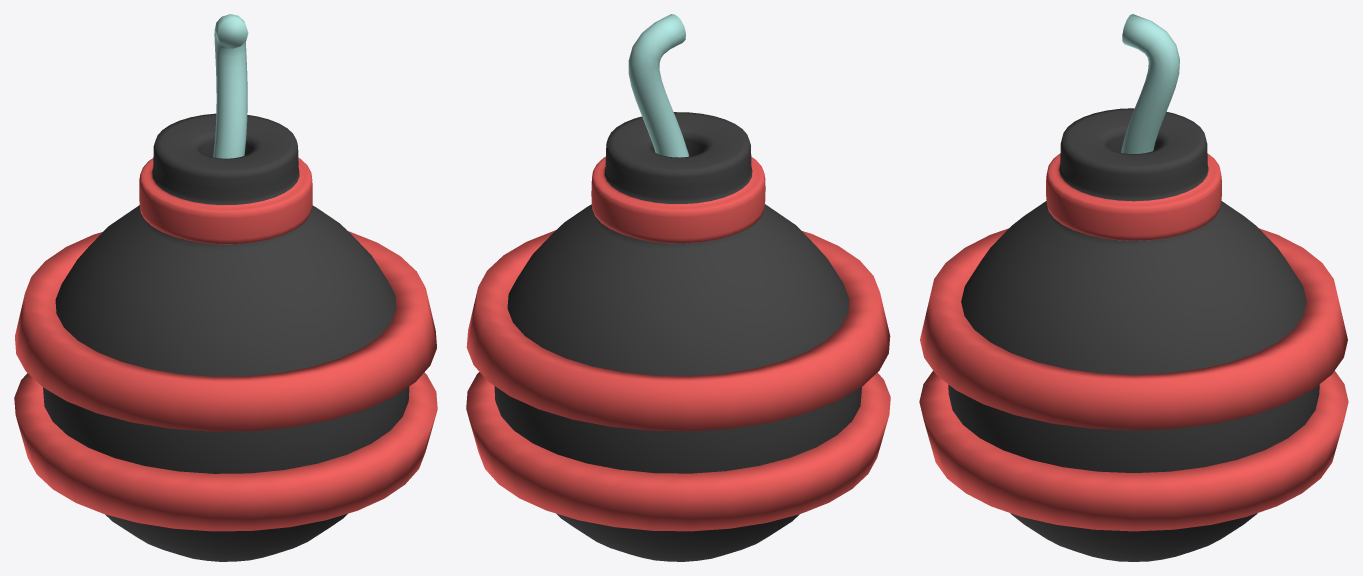
Rendered from Bomb_1.fbx.
The picture shows the model from 3 angles, left to right: view 1: azimuth 30°, elevation 25°; view 2: azimuth 150°, elevation 25°; view 3: azimuth 270°, elevation 25°; orthographic projection.
Parts seen in each view (by area): view 1: Sphere.001, Sphere.004, BezierCurve.002; view 2: Sphere.001, Sphere.004, BezierCurve.002; view 3: Sphere.001, Sphere.004, BezierCurve.002.
Part boxes in pixels (x1,y1,x2,y2): Sphere.001: (43,113,409,561); Sphere.004: (14,231,437,531); BezierCurve.002: (213,14,248,158); Sphere.001: (494,112,861,561); Sphere.004: (466,230,890,531); BezierCurve.002: (628,14,688,157); Sphere.001: (948,108,1319,561); Sphere.004: (919,228,1348,531); BezierCurve.002: (1121,14,1179,153).
Size of the model in its own units: 39.41 by 53.99 by 39.41.
